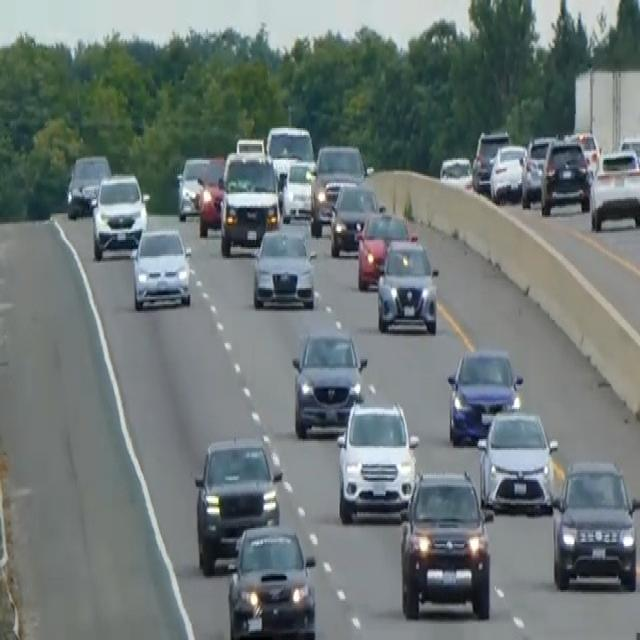car: (192, 432, 282, 572), (550, 455, 639, 592), (335, 391, 419, 523), (226, 523, 317, 638), (476, 407, 561, 514), (291, 323, 367, 438), (446, 345, 523, 444), (376, 236, 439, 334), (251, 224, 316, 309), (130, 224, 192, 311), (90, 170, 148, 260), (310, 142, 367, 231), (355, 206, 411, 290), (588, 146, 639, 231), (539, 137, 591, 215), (328, 180, 380, 256), (65, 151, 111, 219), (520, 133, 555, 208), (471, 128, 509, 194), (196, 154, 225, 236), (280, 156, 316, 222), (488, 143, 526, 205), (175, 154, 208, 218), (565, 128, 600, 178), (438, 153, 472, 188), (618, 134, 639, 172)
jeep: (398, 468, 495, 620)
minivan: (265, 123, 314, 183)
